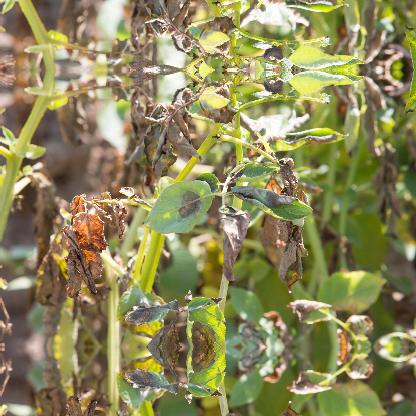Late-Blight: (46, 193, 128, 303), (231, 150, 329, 226), (143, 172, 207, 236), (46, 389, 127, 416)
